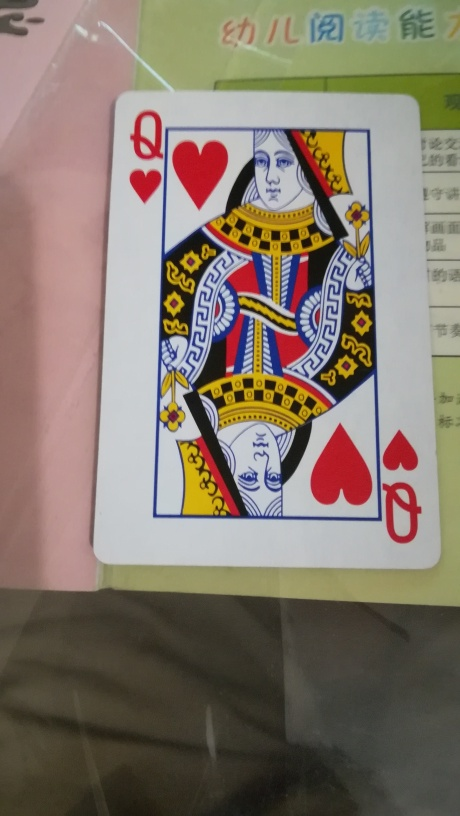hx q: (92, 83, 446, 576)
